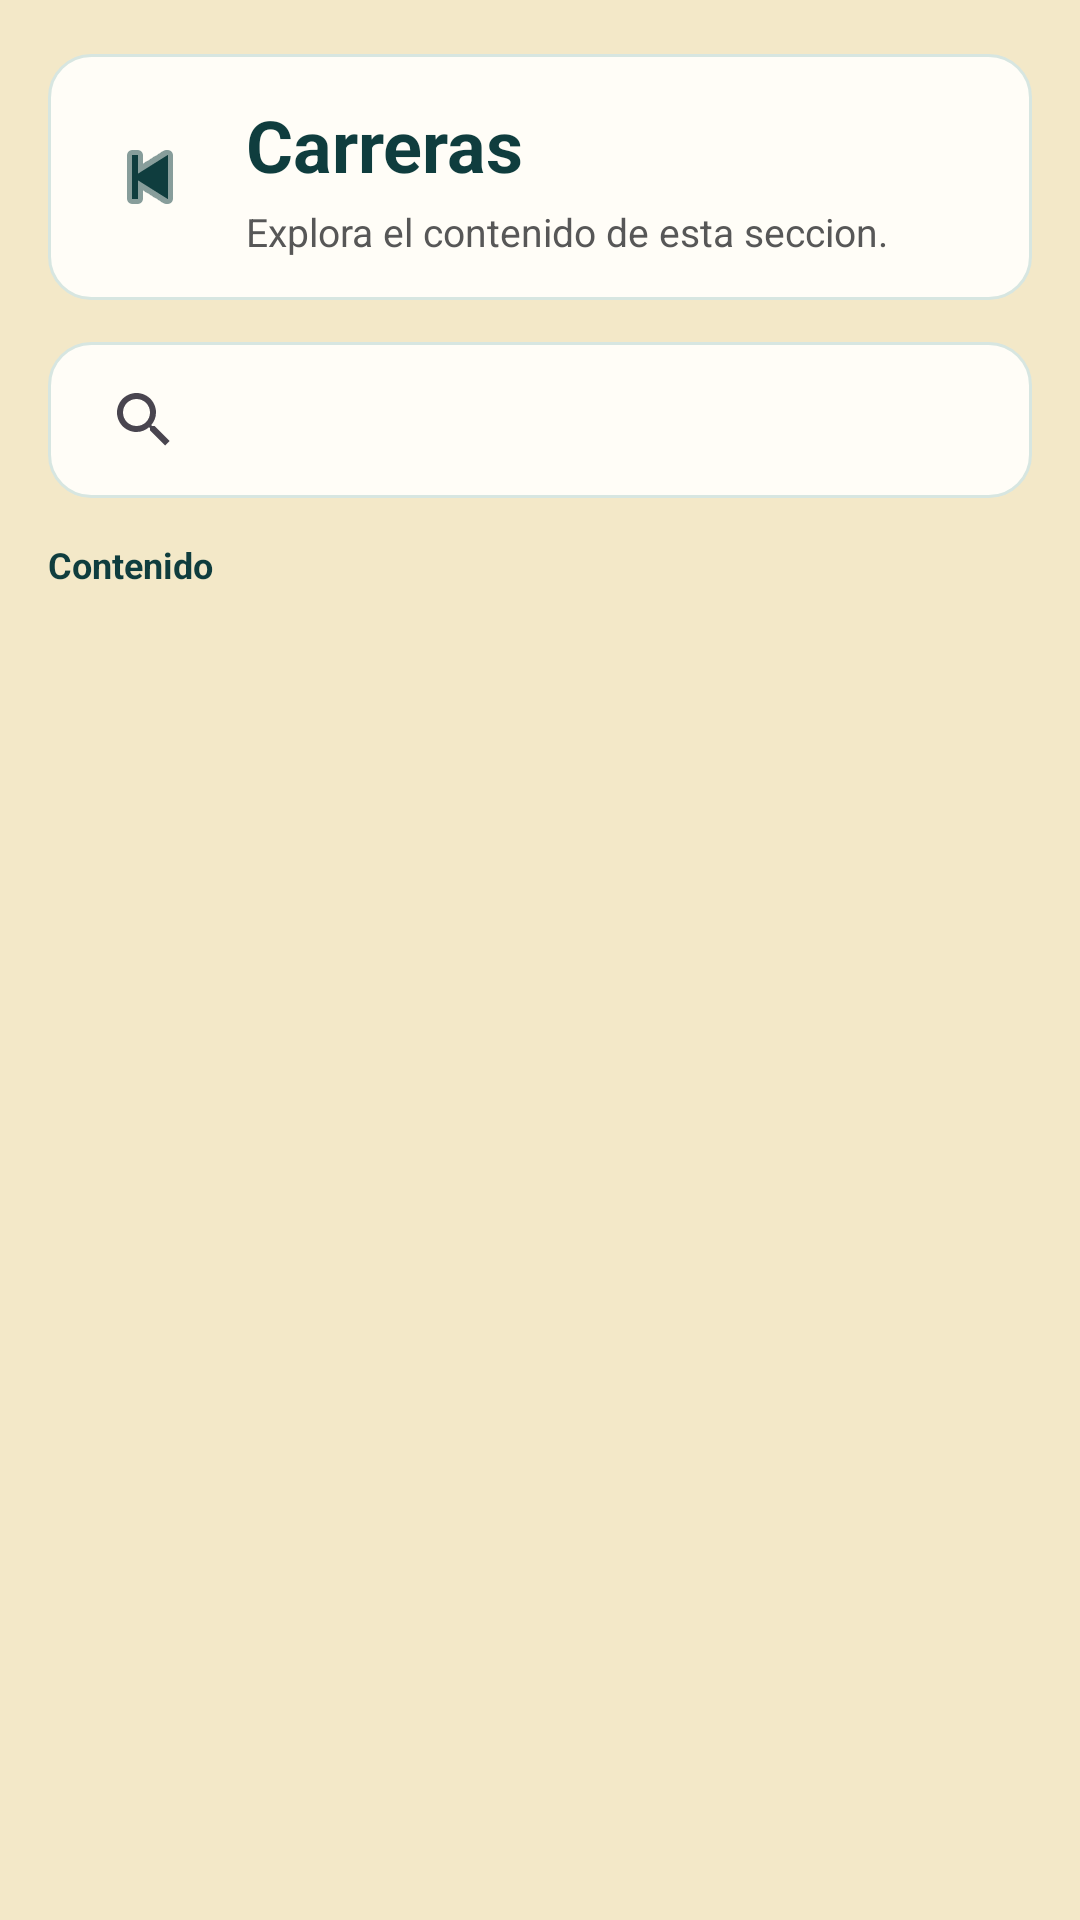

Named icons in this screenshot (1080 × 1920) and their centers, [x,y]:
Volver: [150,177]
